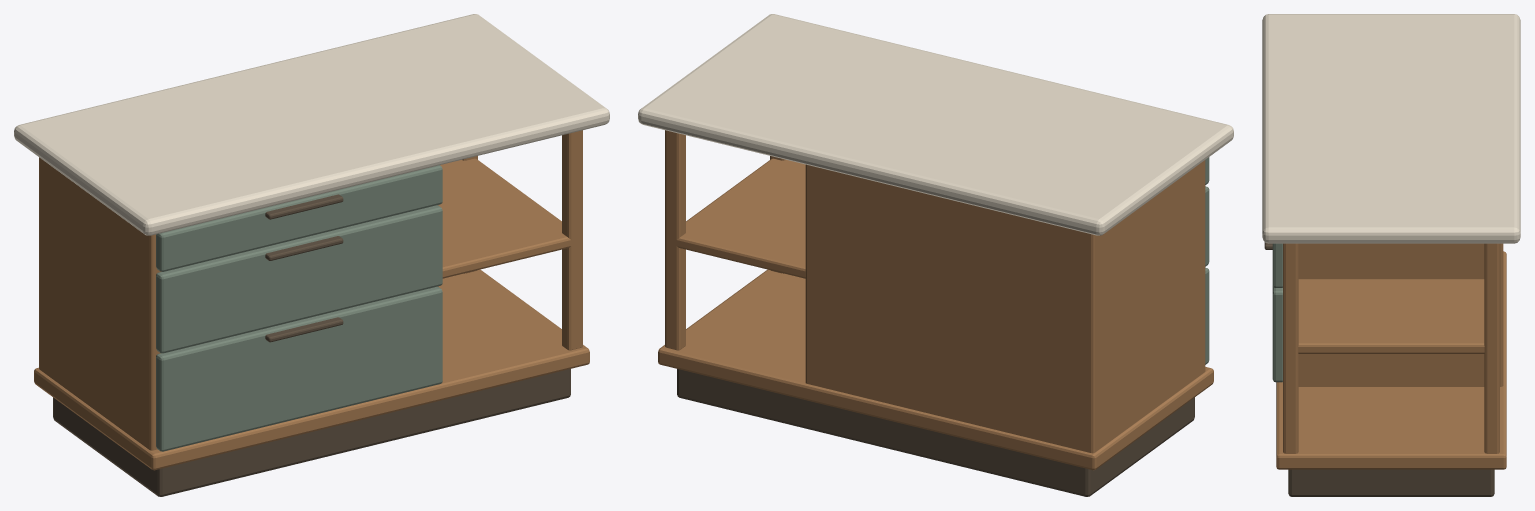
The model's file is table-island.glb.
The picture shows the model from 3 angles, left to right: view 1: azimuth 30°, elevation 25°; view 2: azimuth 150°, elevation 25°; view 3: azimuth 270°, elevation 25°; orthographic projection. The views are drawn at different scales.
Visible parts, largest first — view 1: table-island; view 2: table-island; view 3: table-island.
Boxes of the visible parts, x1,y1,x2,y2 form: table-island: (14, 14, 609, 496); table-island: (638, 14, 1233, 496); table-island: (1262, 14, 1520, 496).
Bounding box in the file's own units: 1.5 × 0.9 × 0.75.
